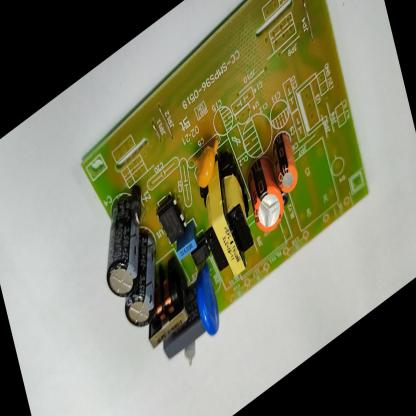Cap1: (240, 143, 290, 245)
Cap2: (266, 124, 302, 202)
Cap3: (110, 222, 173, 341)
Cap4: (89, 178, 156, 310)
MOSFET: (153, 181, 195, 256)
Mov: (188, 253, 228, 344)
Resistor: (177, 316, 202, 370)
Transformer: (189, 143, 265, 298), (129, 250, 199, 364)
